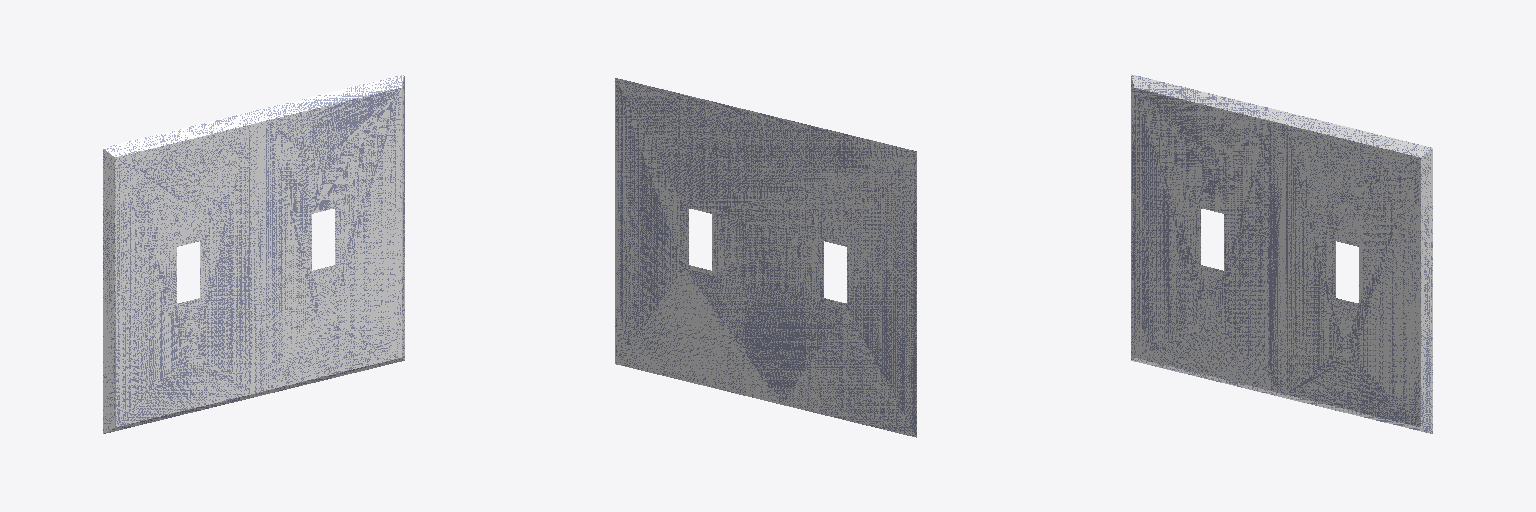
The model's file is switch3.obj.
The picture shows the model from 3 angles: view 1: azimuth 30°, elevation 25°; view 2: azimuth 150°, elevation 25°; view 3: azimuth 330°, elevation 25°; orthographic projection.
Parts seen in each view (by area): view 1: group_0.004_ID27; view 2: group_0.004_ID27; view 3: group_0.004_ID27.
Part boxes in pixels (x1,y1,x2,y2): group_0.004_ID27: (103, 74, 404, 433); group_0.004_ID27: (615, 78, 916, 437); group_0.004_ID27: (1131, 74, 1432, 433).
Size of the model in its own units: 0.377 by 0.3414 by 0.0099.